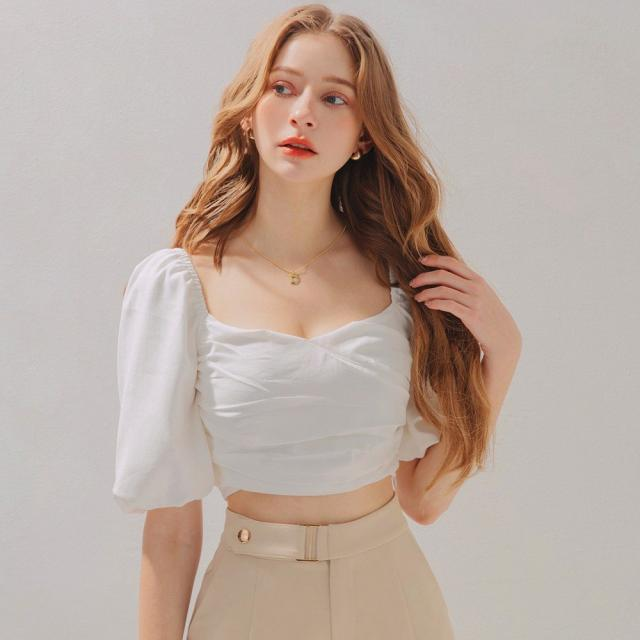clothes: (107, 246, 458, 640)
